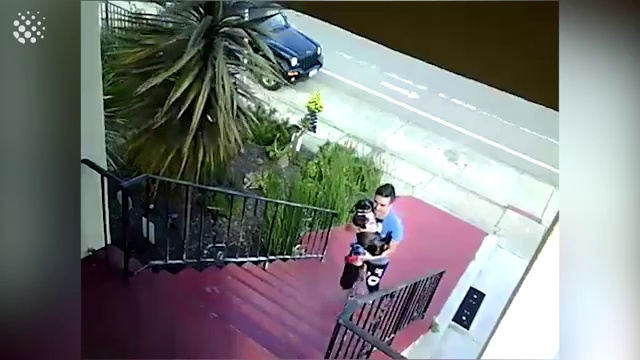face: (372, 195, 390, 217)
